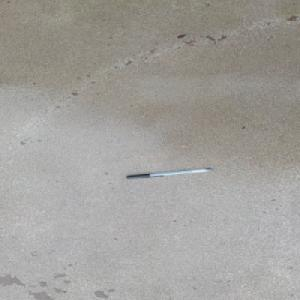Pen: (125, 167, 213, 179)
